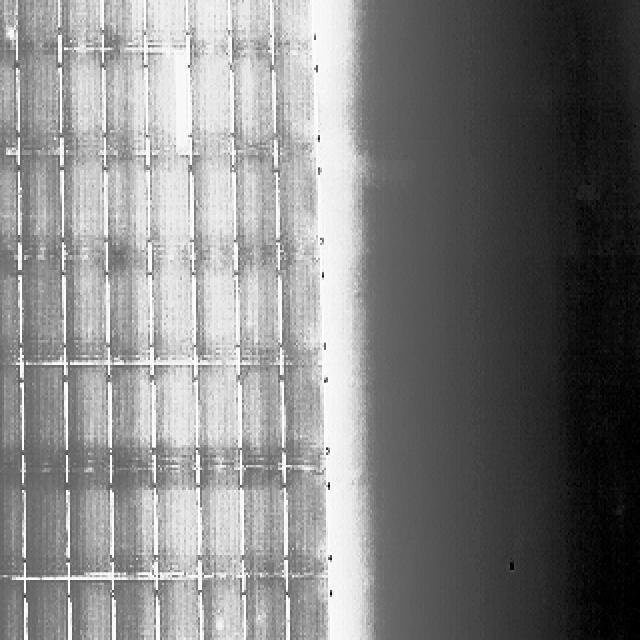PV-modules: (148, 44, 200, 152), (18, 50, 66, 159), (21, 255, 67, 364), (155, 468, 201, 576), (66, 475, 112, 583), (64, 366, 110, 474), (192, 256, 238, 364), (20, 153, 66, 260), (279, 255, 323, 366), (27, 476, 72, 584), (284, 472, 329, 580), (59, 45, 103, 155), (146, 154, 191, 261), (27, 366, 71, 475), (105, 51, 149, 160), (63, 254, 107, 363), (107, 154, 151, 262), (243, 468, 287, 576), (237, 152, 280, 262), (195, 368, 240, 473), (198, 471, 242, 578), (238, 257, 282, 364), (149, 256, 193, 363), (112, 473, 156, 580), (190, 153, 234, 260), (188, 49, 232, 155), (110, 366, 154, 472), (234, 47, 278, 152), (240, 363, 284, 468), (273, 51, 316, 158), (108, 259, 152, 363), (151, 366, 195, 470), (60, 154, 104, 258), (281, 363, 324, 469), (277, 154, 320, 260), (54, 0, 142, 48), (198, 570, 244, 640), (240, 572, 284, 640), (284, 575, 328, 640), (158, 577, 202, 640), (24, 580, 70, 640), (114, 577, 156, 640), (68, 580, 112, 640), (0, 472, 24, 578), (0, 363, 22, 475), (12, 0, 61, 46), (270, 0, 316, 49), (142, 0, 188, 49), (56, 0, 101, 47), (232, 0, 276, 48), (187, 0, 230, 49), (0, 260, 20, 365), (105, 0, 146, 49), (0, 48, 18, 158), (0, 152, 18, 258), (0, 577, 24, 640), (0, 0, 16, 45)
